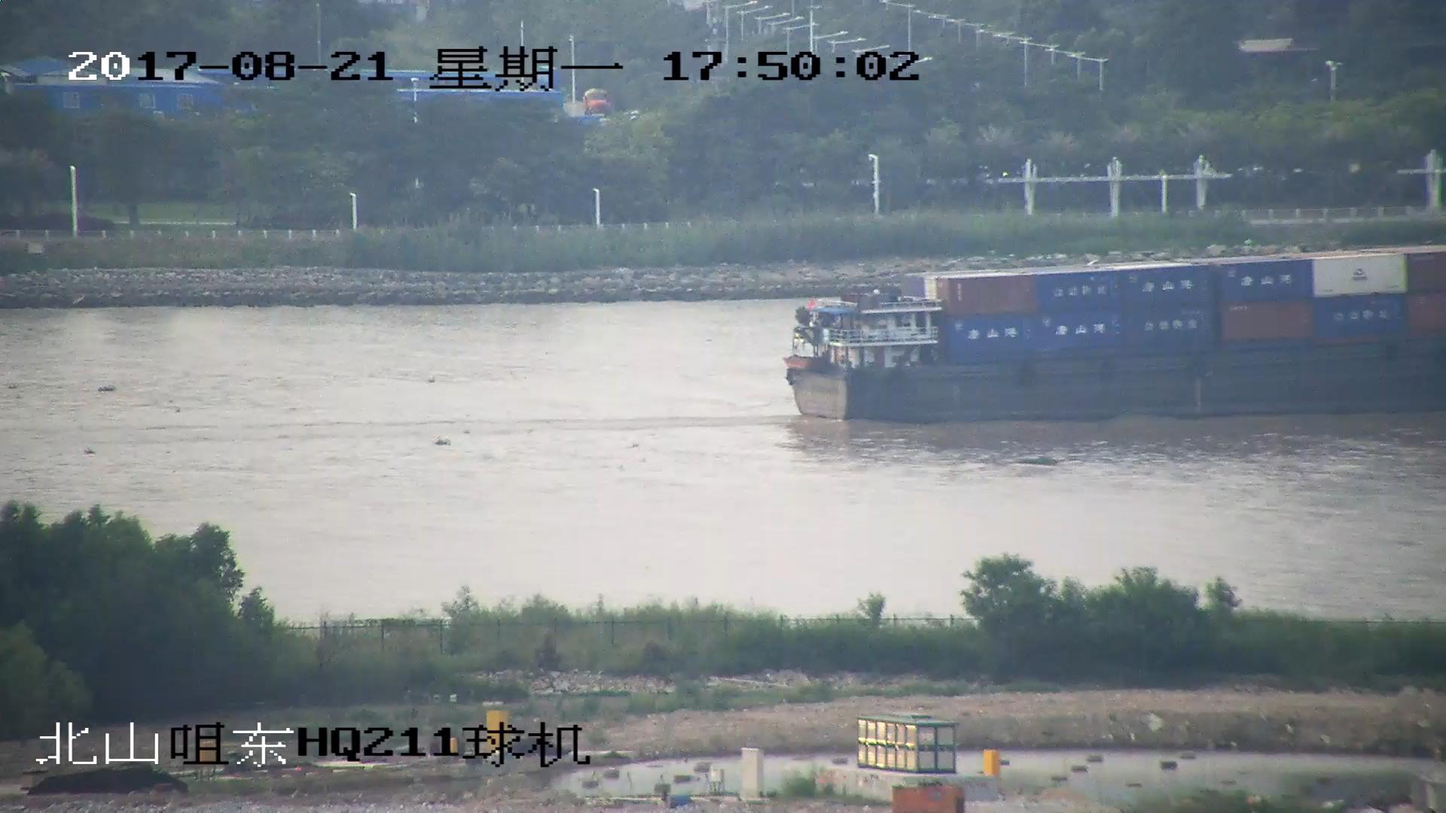container ship: (787, 248, 1445, 420)
